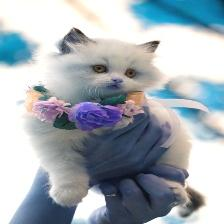kedo: (50, 27, 165, 97)
